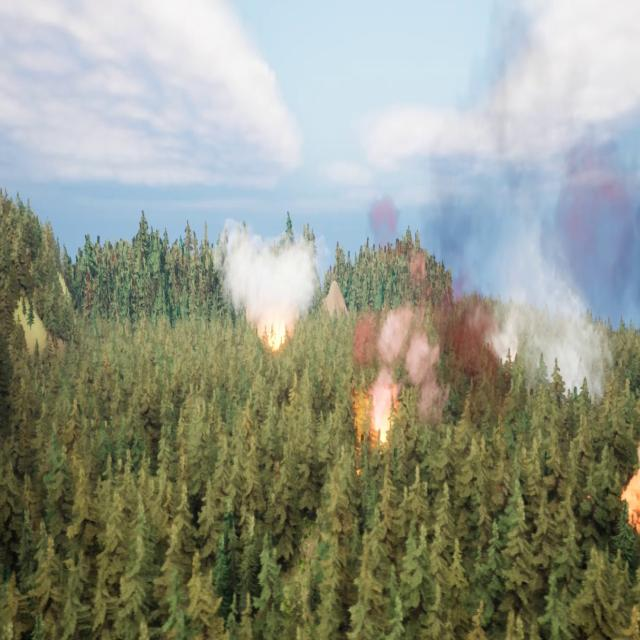fire: (356, 380, 402, 442), (616, 467, 640, 538), (257, 323, 295, 351)
smoke: (355, 1, 640, 452), (216, 217, 328, 354)
